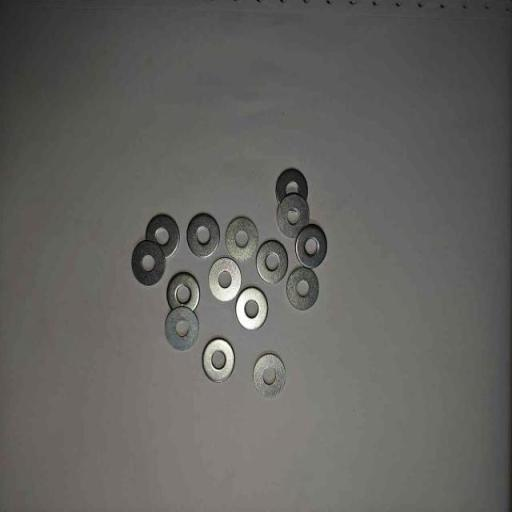washer: (145, 214, 180, 260), (132, 240, 166, 287), (186, 212, 221, 257), (164, 307, 199, 351), (276, 194, 310, 239), (208, 257, 242, 302), (226, 216, 259, 262), (295, 224, 328, 269), (235, 286, 268, 331), (202, 338, 235, 383), (253, 353, 286, 398), (286, 267, 320, 310), (256, 240, 288, 284), (167, 271, 200, 312), (275, 167, 308, 207)
